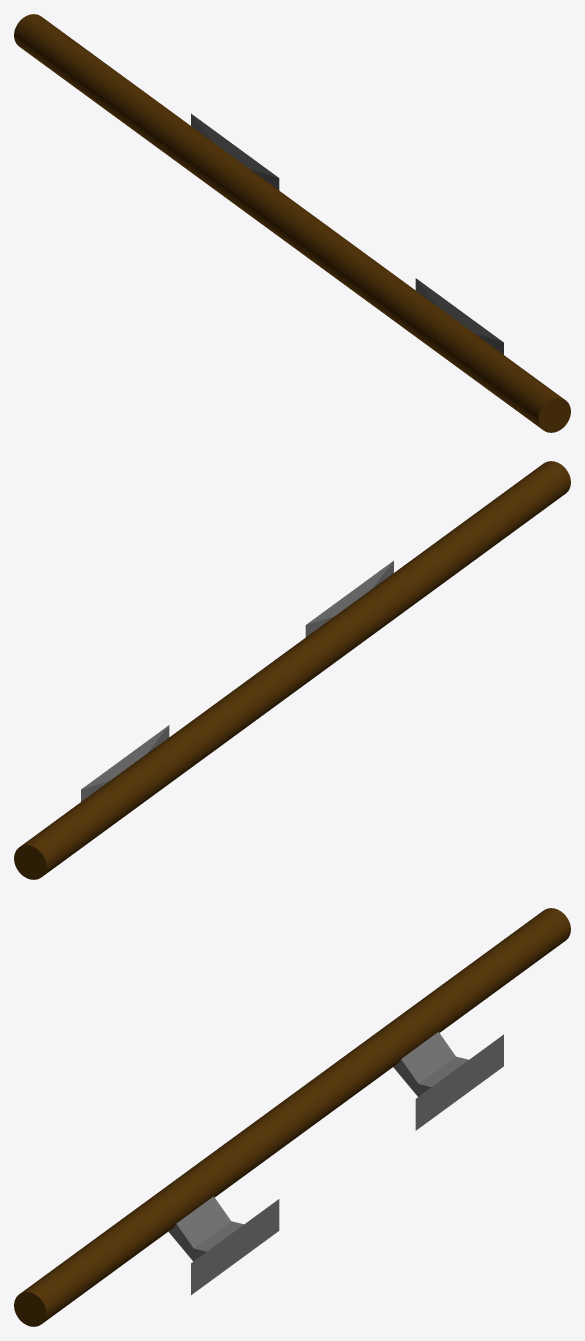
The model's file is handrail.fbx.
The picture shows the model from 3 angles, top to bottom: view 1: azimuth 30°, elevation 25°; view 2: azimuth 150°, elevation 25°; view 3: azimuth 330°, elevation 25°; orthographic projection.
Visible parts, largest first — view 1: handrail; view 2: handrail; view 3: handrail.
Part boxes in pixels (<box>): handrail: <box>14,14,570,432</box>; handrail: <box>14,461,570,879</box>; handrail: <box>14,908,570,1326</box>.
Bounding box in the file's own units: 10.98 × 9.86 × 140.
